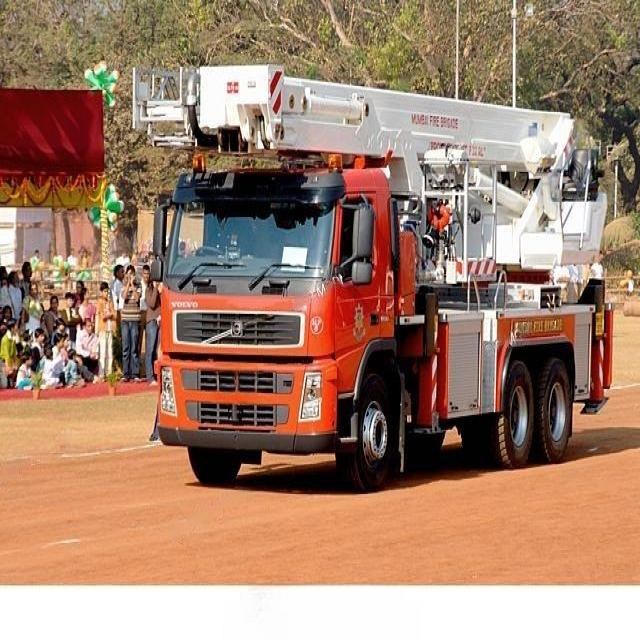emergency: (135, 65, 614, 489)
